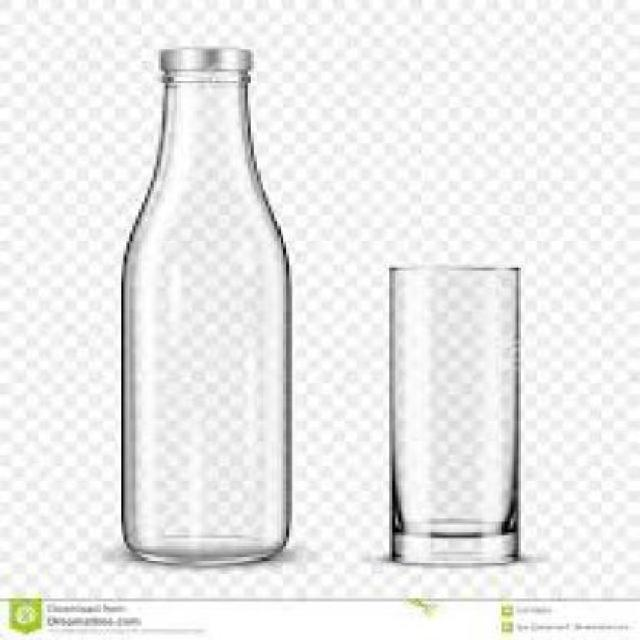kaca: (118, 69, 290, 560), (383, 263, 514, 566)
